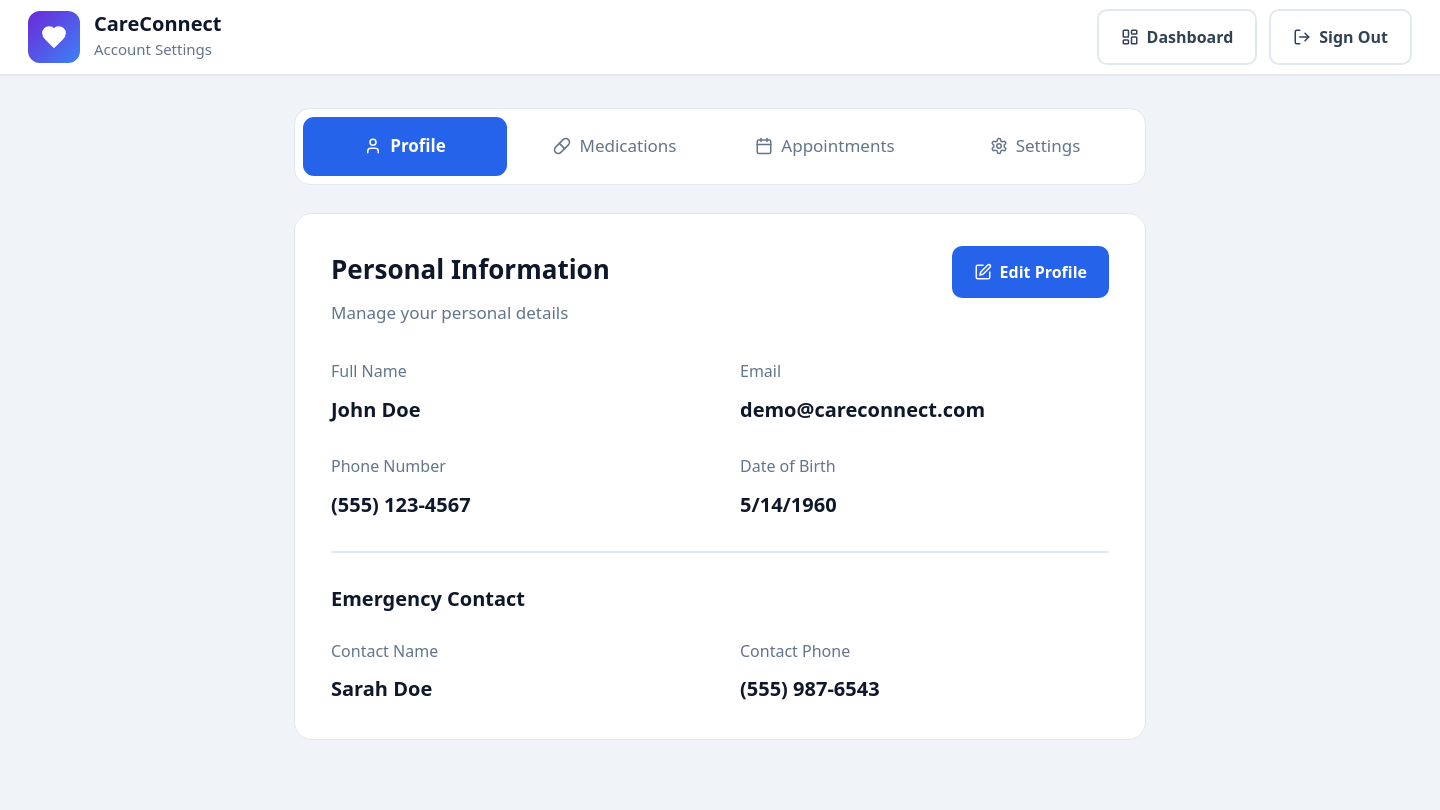
Test: AccountSettingsPage › switches to appointments tab
Click the button "Appointments" at (825, 146), box left=723, top=117, right=927, bottom=176
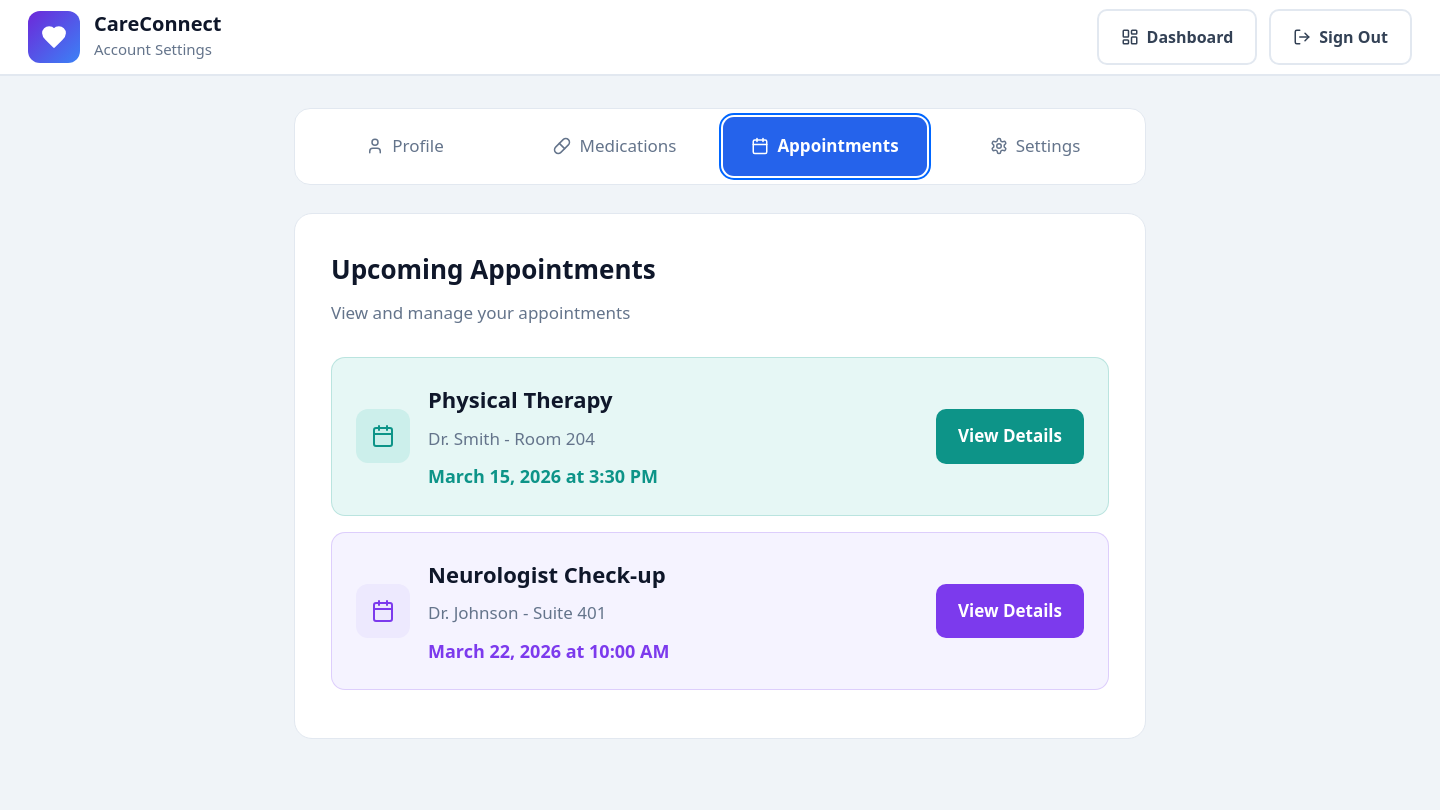
Check: the heading "Upcoming Appointments" is shown, box left=331, top=251, right=656, bottom=287
Check: the text "Physical Therapy" is shown, box left=428, top=384, right=612, bottom=414
Check: the text "Neurologist Check-up" is shown, box left=428, top=559, right=666, bottom=589
